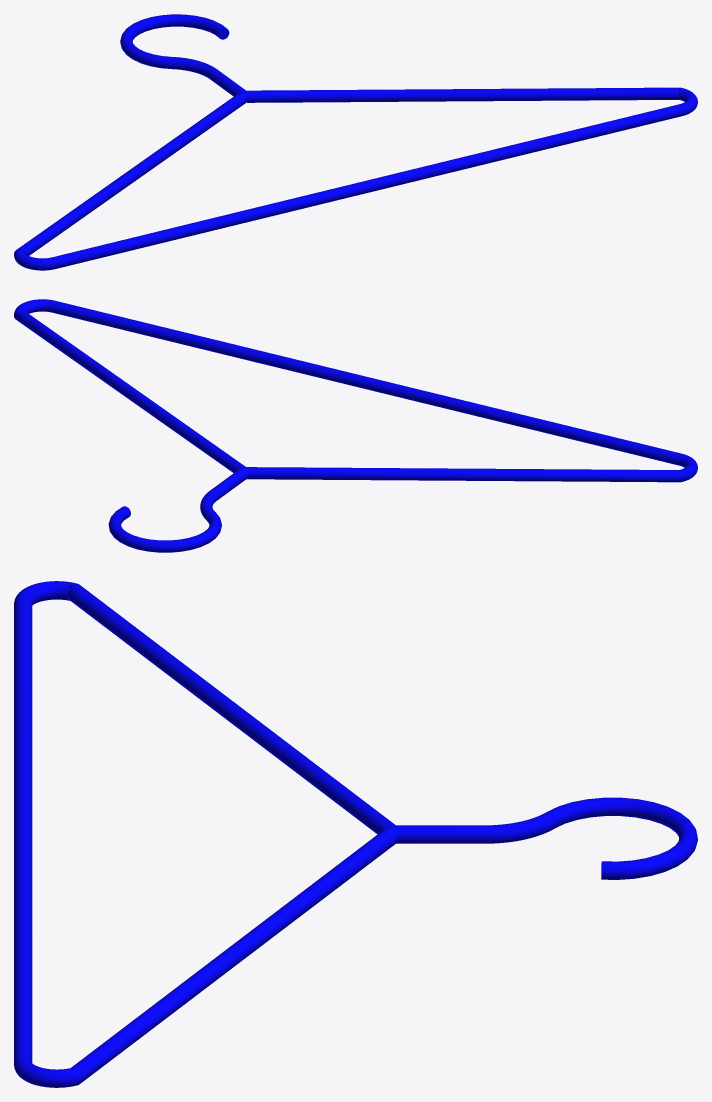
The picture shows the model from 3 angles, top to bottom: view 1: azimuth 30°, elevation 25°; view 2: azimuth 150°, elevation 25°; view 3: azimuth 270°, elevation 25°; orthographic projection. The views are drawn at different scales.
Parts seen in each view (by area): view 1: Clothes_hanger; view 2: Clothes_hanger; view 3: Clothes_hanger.
Part boxes in pixels (box(x1,y1,x2,y2)): Clothes_hanger: box(14, 14, 697, 270); Clothes_hanger: box(14, 299, 697, 552); Clothes_hanger: box(14, 581, 697, 1087).
Size of the model in its own units: 15.88 by 9.25 by 0.25.
